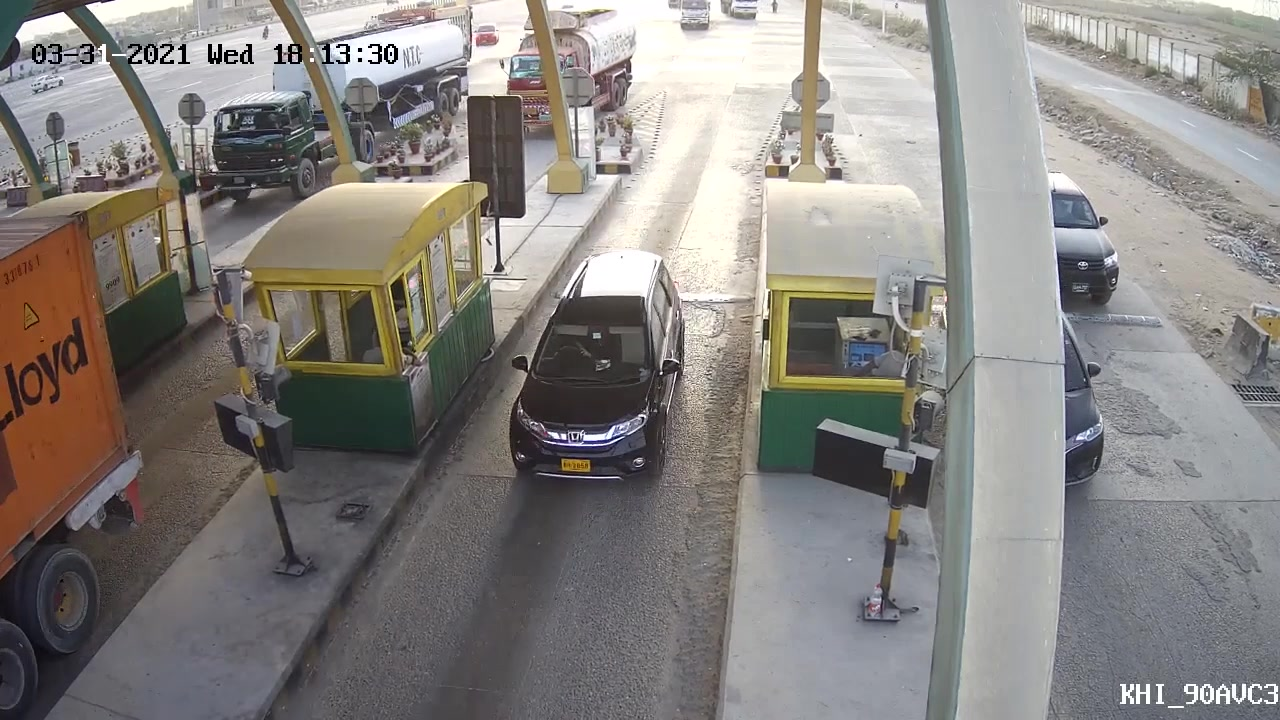F1: (504, 244, 695, 493)
